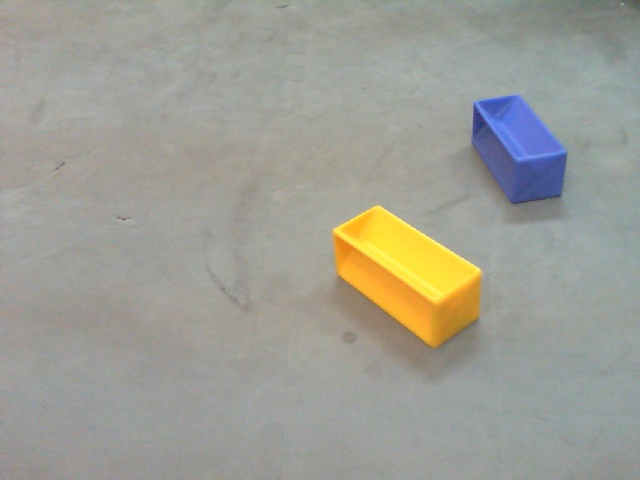BlueSample: (467, 91, 572, 204)
YellowSample: (327, 203, 487, 356)
